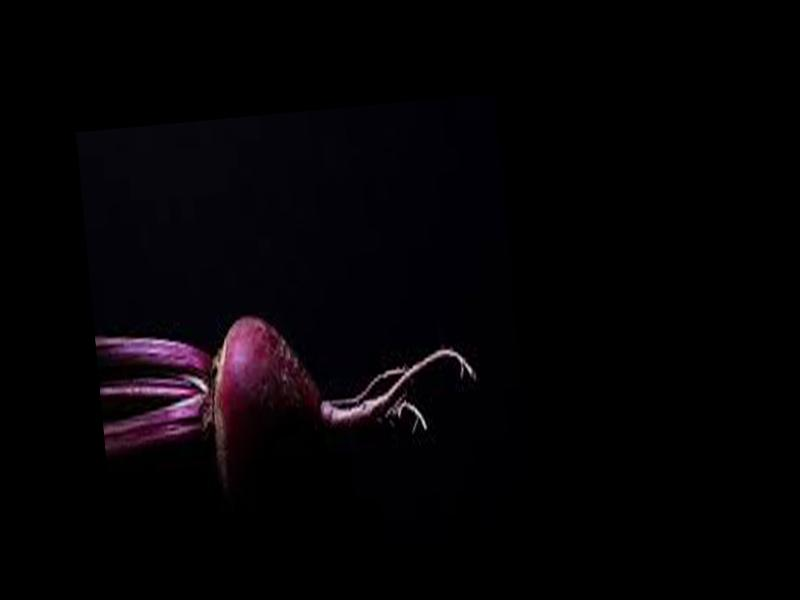Beet: (95, 284, 486, 522)
